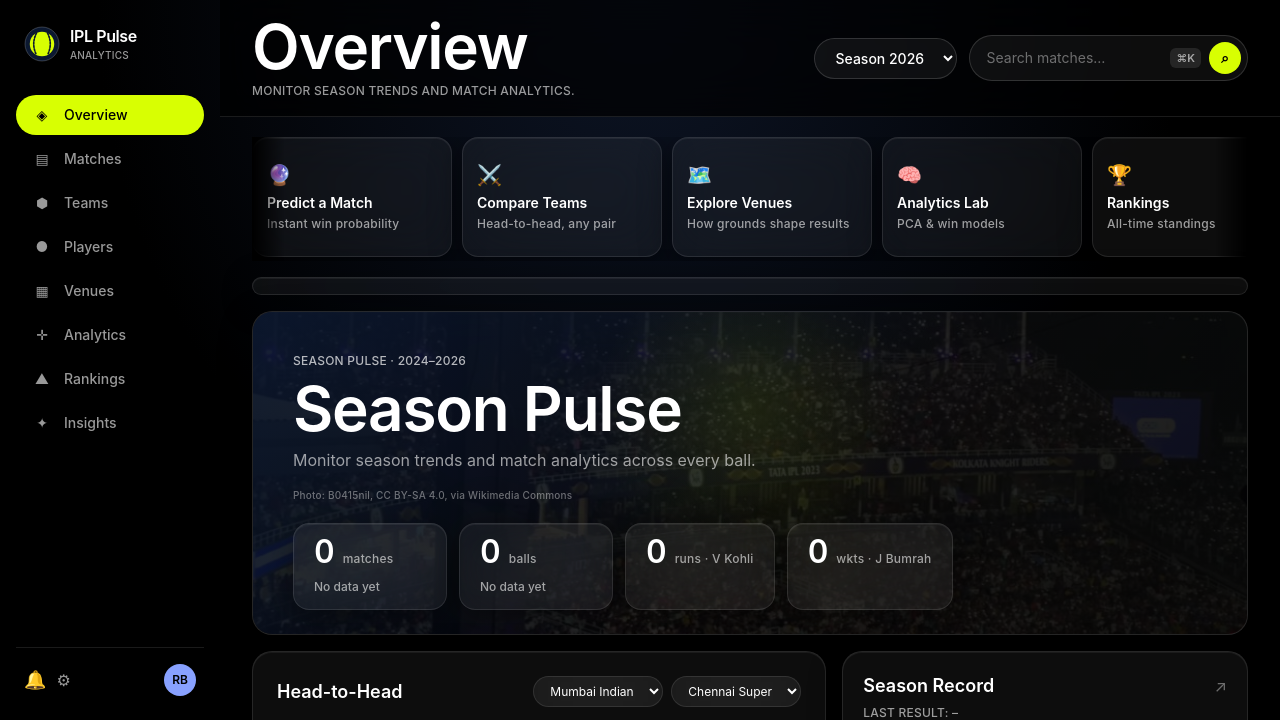
Sidebar footer › opens notifications with live data
Check: the heading "Season Pulse" is shown, box [293,371,682,446]
Click the button named "Notifications". click: {"x": 35, "y": 680}
box: [24,666,46,694]
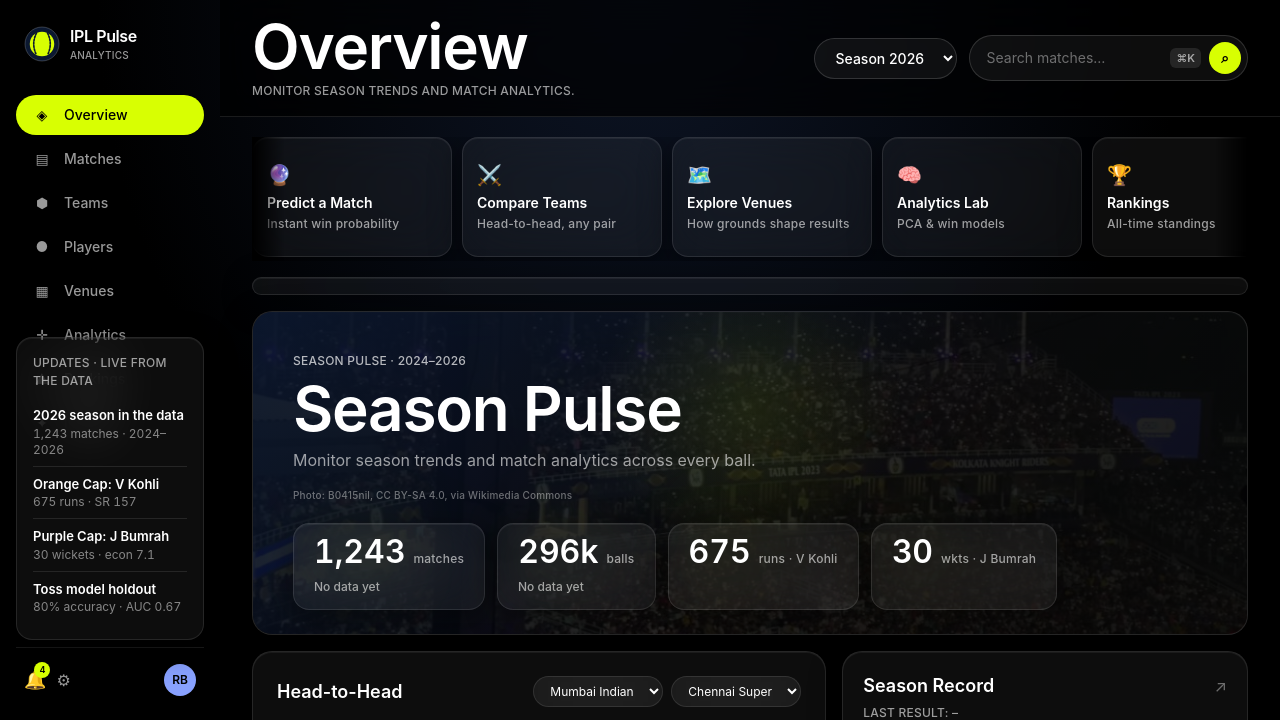
Check: the text "Orange Cap: V Kohli" is shown, box [33,476,159,492]
Check: the text "Toss model holdout" is shown, box [33,580,156,596]
